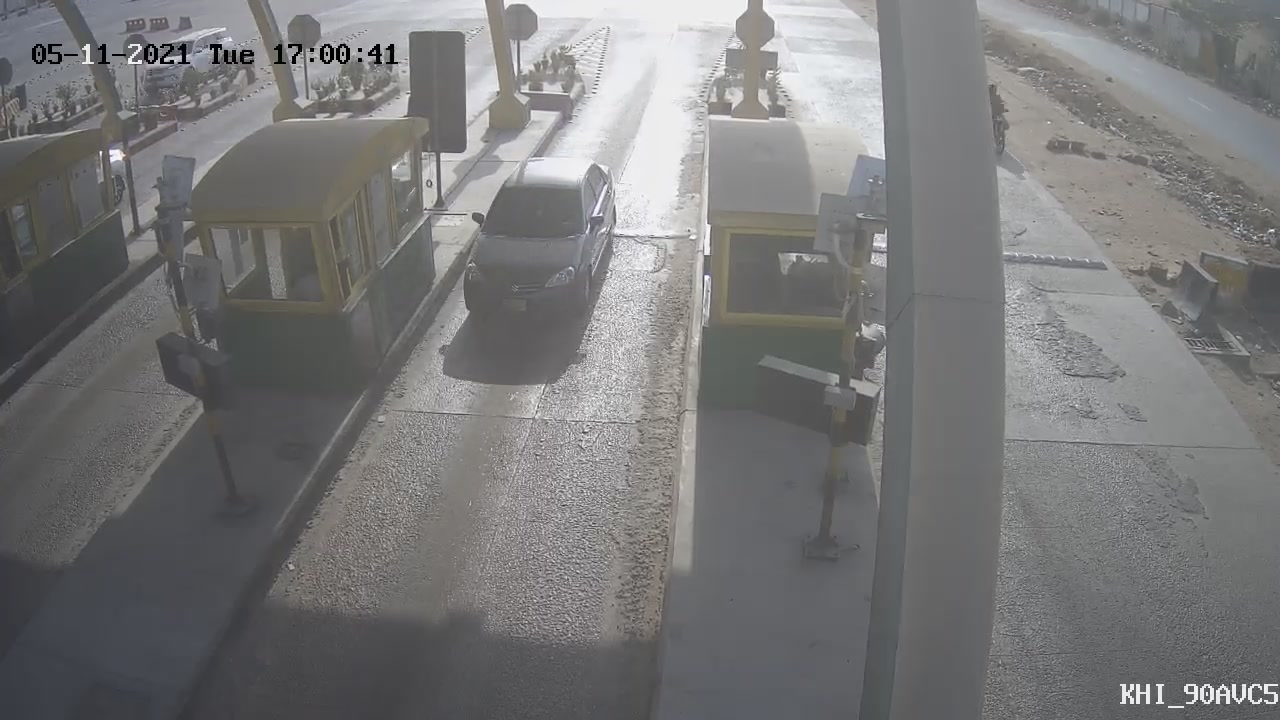F1: (444, 142, 638, 352)
